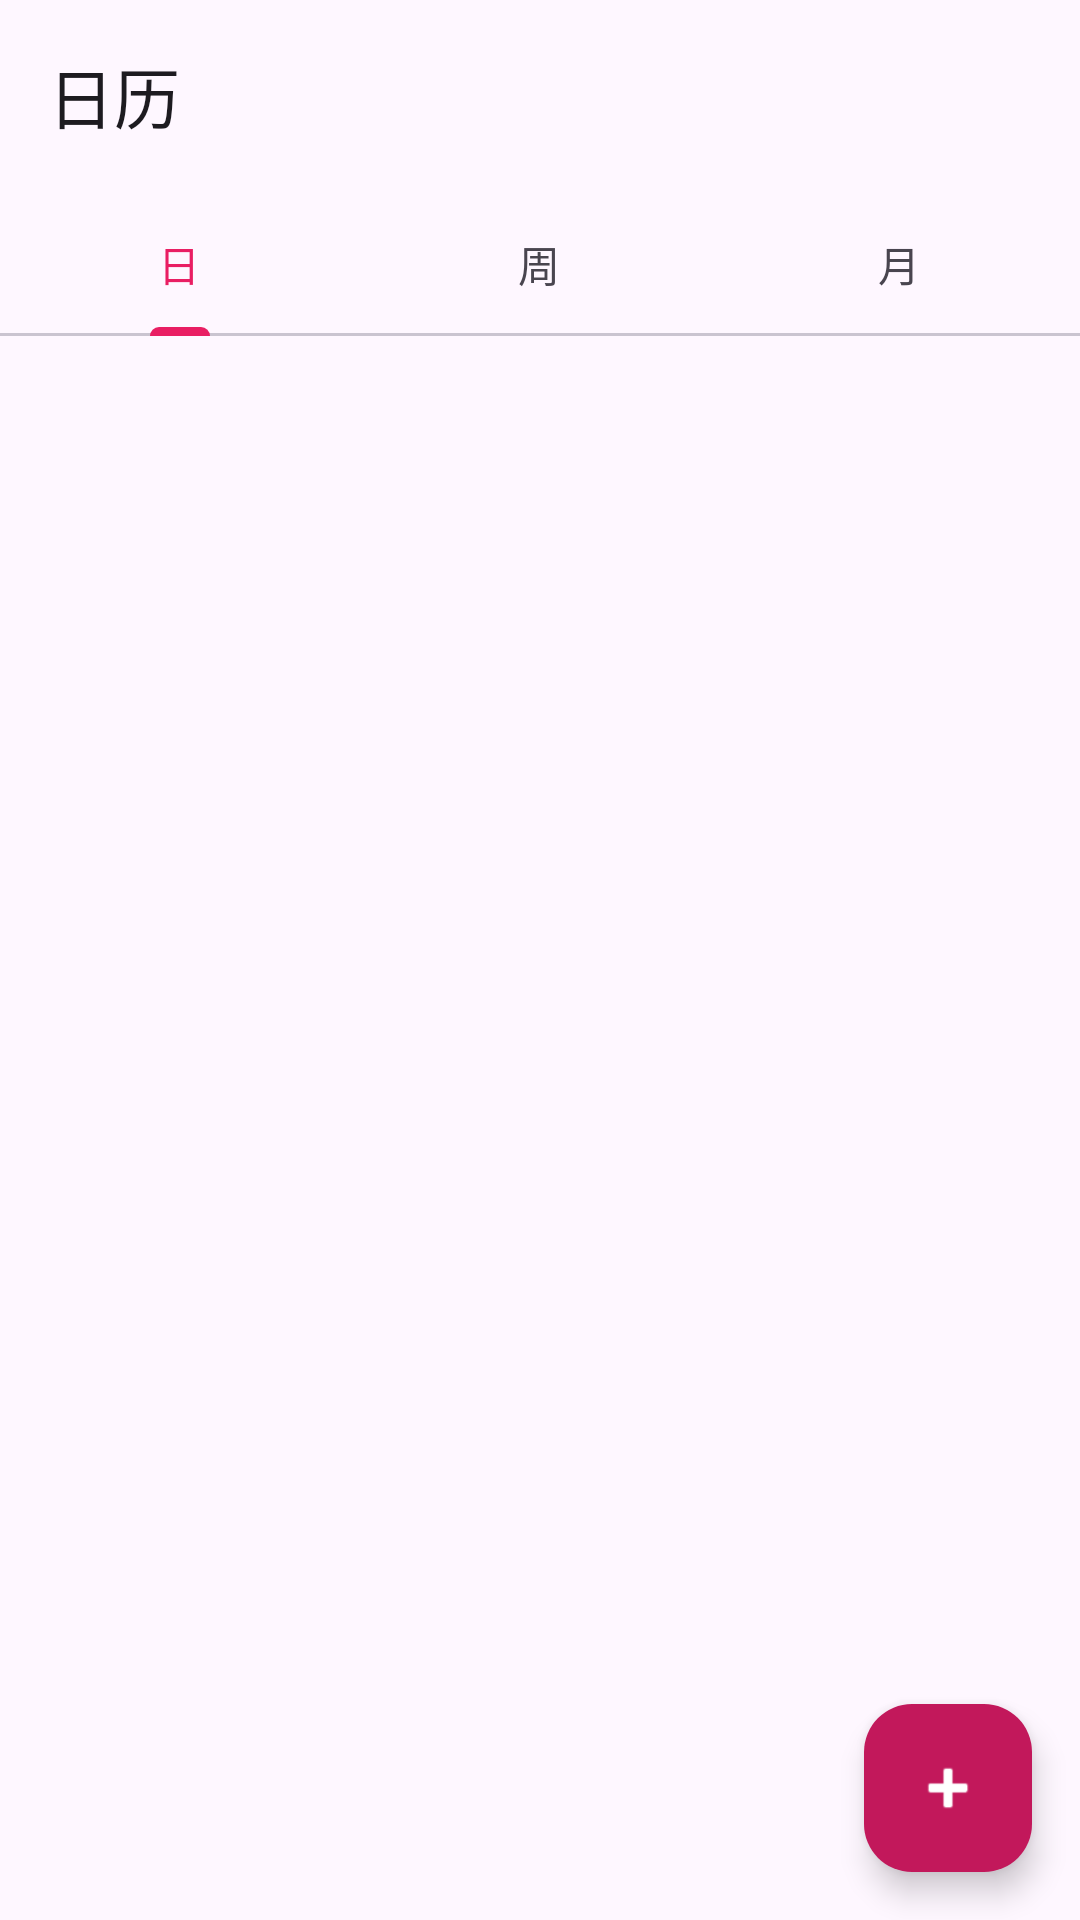

Screen size 1080×1920. Icon name, then its box in pixels as box(x1, y1, x2, y2):
添加事件: box(864, 1704, 1032, 1872)
